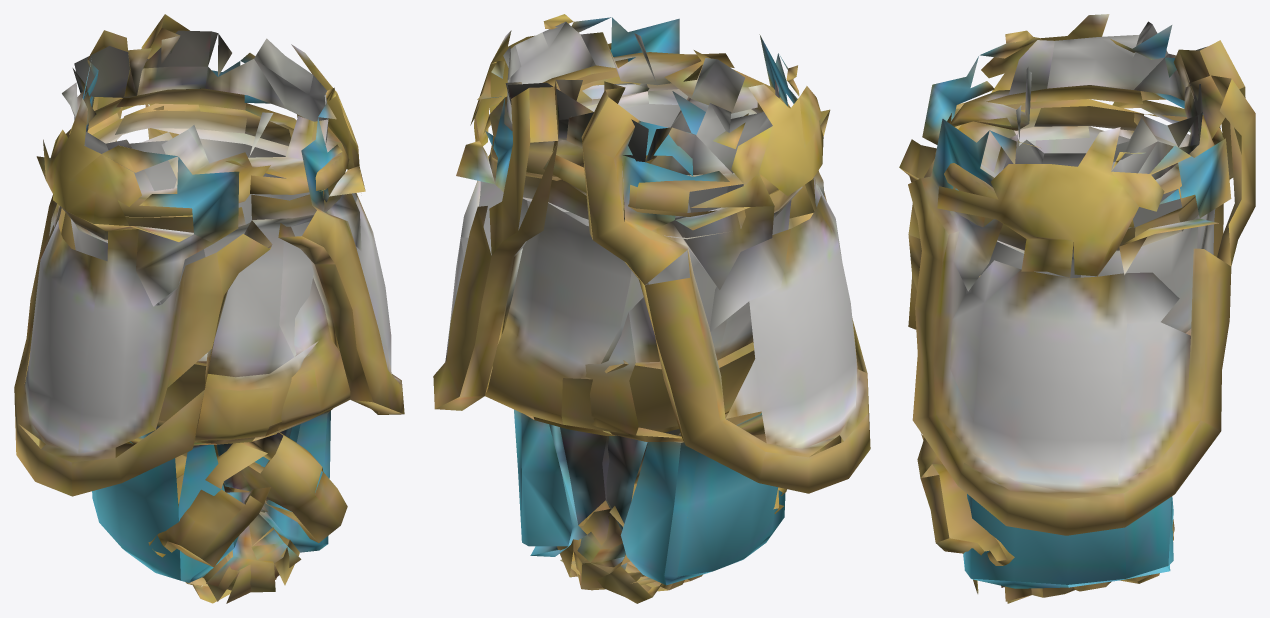
Rendered from prop_tenkai_gauntlets.fbx.
3 renders of one model, left to right at view 1: azimuth 30°, elevation 25°; view 2: azimuth 150°, elevation 25°; view 3: azimuth 270°, elevation 25°, orthographic. The views are drawn at different scales.
Visible parts, largest first — view 1: gauntlet_R, gauntlet_L; view 2: gauntlet_R, gauntlet_L; view 3: gauntlet_L, gauntlet_R.
Part boxes in pixels (left/top/right/bottom): gauntlet_R: left=14, top=30, right=349, bottom=592; gauntlet_L: left=61, top=14, right=404, bottom=603; gauntlet_R: left=483, top=21, right=870, bottom=590; gauntlet_L: left=433, top=14, right=802, bottom=603; gauntlet_L: left=908, top=21, right=1255, bottom=588; gauntlet_R: left=899, top=14, right=1245, bottom=603.
Bounding box in the file's own units: 0.3707 × 0.5063 × 0.3063.
Materials: 1 (1 with a texture image).
